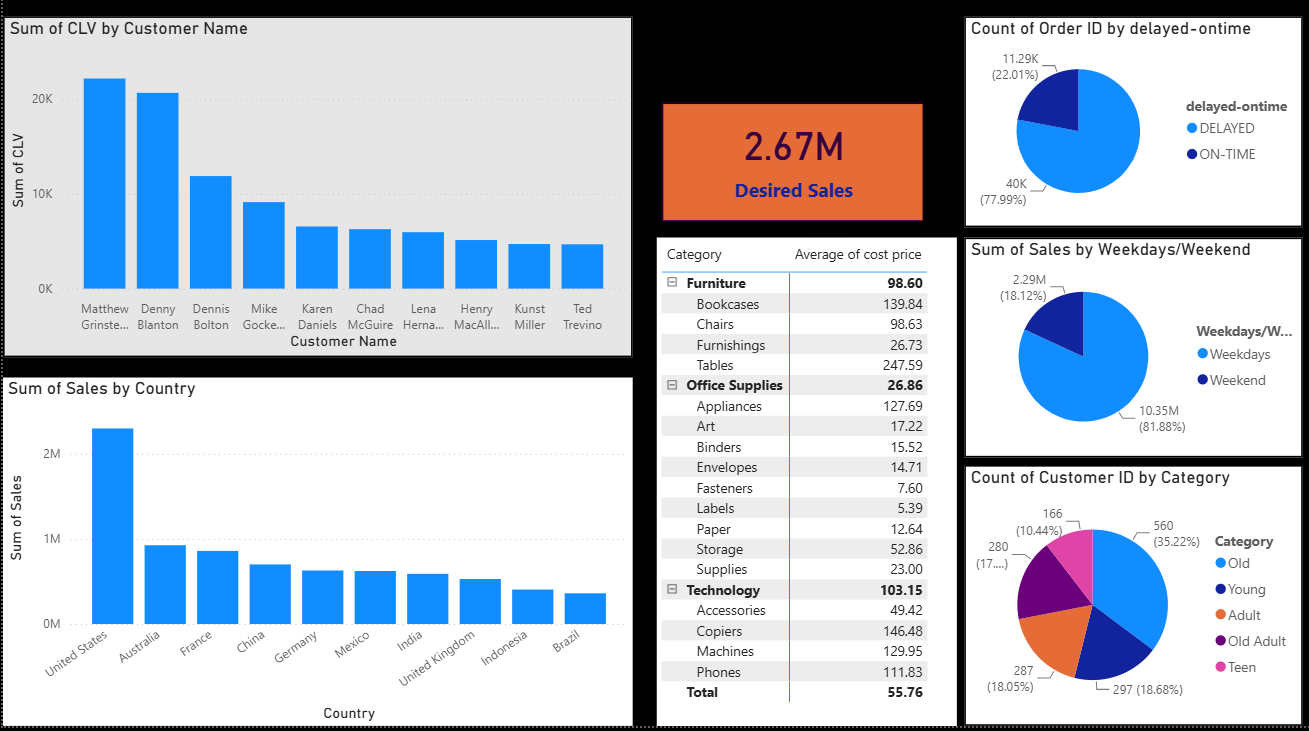

This screenshot's page, from the dashboard's own definition file:
{"tool":"powerbi","page":{"name":"Page 6","canvas":[1280,720],"ordinal":6},"visuals":[{"type":"pieChart","fields":{"Category":["Orders.delayed-ontime"],"Y":["CountNonNull(Orders.Order ID)"]},"box":[940.4,9.8,331.4,222.6],"z":0},{"type":"textbox","box":[588.2,9.8,220.1,73.4],"z":1000},{"type":"pieChart","fields":{"Category":["Orders.Weekdays/Weekend"],"Y":["Sum(Orders.Sales)"]},"box":[940.4,242.1,331.4,215.2],"z":2000},{"type":"pivotTable","fields":{"Rows":["Orders.Category","Orders.Sub-Category"],"Values":["Avg(Orders.cost price)"]},"box":[639.5,242.1,293.5,478.1],"z":3000},{"type":"pieChart","fields":{"Category":["Customer.Category"],"Y":["CountNonNull(Customer.Customer ID)"]},"box":[940.4,464.7,331.4,255.6],"z":4000},{"type":"cardVisual","fields":{"Data":["Customer.Desired Sales"]},"box":[639.5,105.7,266.2,126.2],"z":5000}]}

Visuals, with their boxes in screenshot pixels (x1, y1, x2, y2), scaled from the page's 1280x720 canvas onto the 1309x731 screenshot:
pieChart - Orders.delayed-ontime x CountNonNull(Orders.Order ID): {"left": 962, "top": 10, "right": 1301, "bottom": 236}
textbox: {"left": 602, "top": 10, "right": 827, "bottom": 84}
pieChart - Orders.Weekdays/Weekend x Sum(Orders.Sales): {"left": 962, "top": 246, "right": 1301, "bottom": 464}
pivotTable - Orders.Category x Orders.Sub-Category: {"left": 654, "top": 246, "right": 954, "bottom": 730}
pieChart - Customer.Category x CountNonNull(Customer.Customer ID): {"left": 962, "top": 472, "right": 1301, "bottom": 730}
cardVisual - Customer.Desired Sales: {"left": 654, "top": 107, "right": 926, "bottom": 235}
